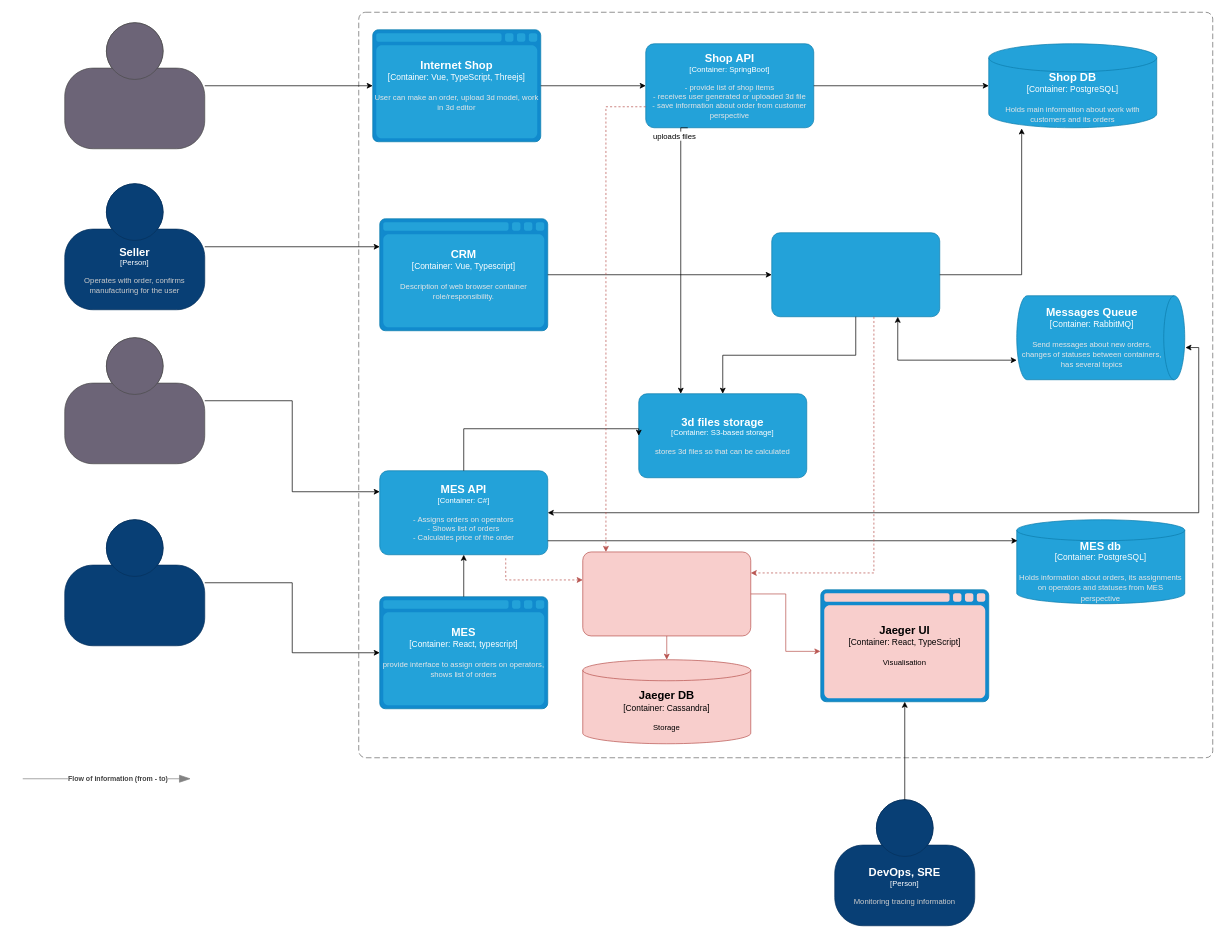
This 1225x938 diagram has some shape labels left out. Each missing label, with the box of its shape:
API user [Person] Description of external person.: (64, 337, 205, 464)
CRM API [Container: SpringBoot] Description of container role/responsibility.: (771, 232, 940, 317)
Customer [Person] Description of external person.: (64, 22, 205, 149)
Jaeger [Container: GoLang] Traces: (582, 551, 751, 636)
Jewerly Store System [Software System]: (358, 12, 1213, 758)
Operator [Person] Takes order in work, manufactures jewerly: (64, 519, 205, 646)
